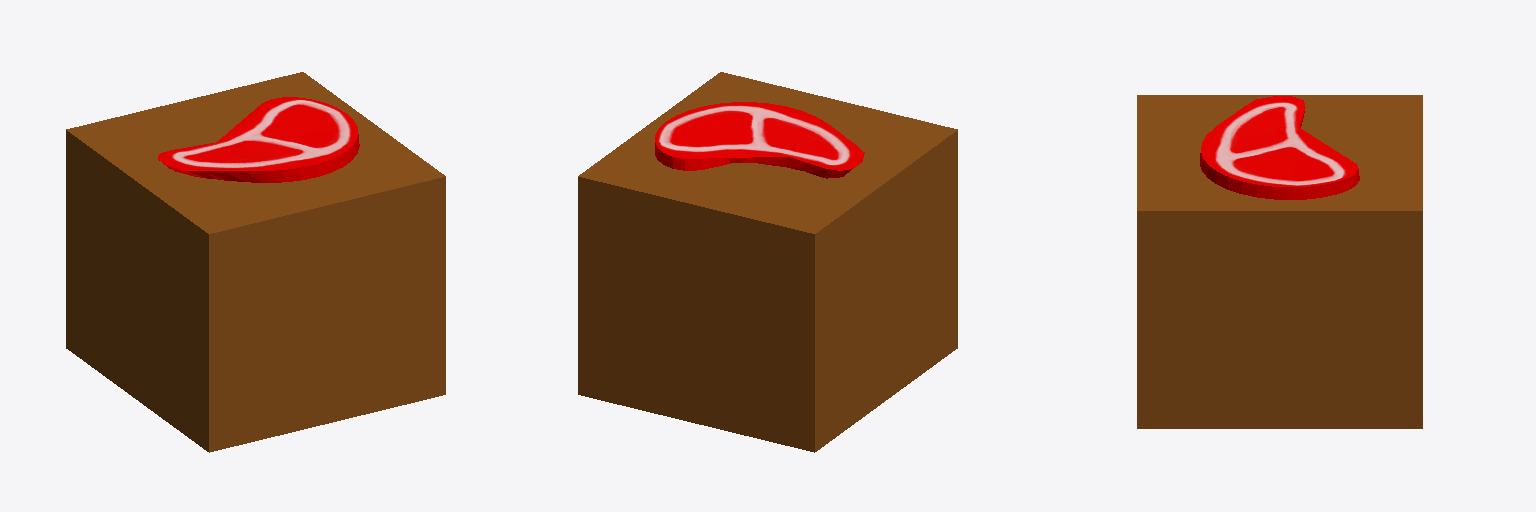
3 renders of one model, left to right at view 1: azimuth 30°, elevation 25°; view 2: azimuth 150°, elevation 25°; view 3: azimuth 270°, elevation 25°, orthographic.
Visible parts, largest first — view 1: Cube.007, Cylinder.004; view 2: Cube.007, Cylinder.004; view 3: Cube.007, Cylinder.004.
Boxes of the visible parts, box(x1,y1,x2,y2) form: Cube.007: box(66, 72, 445, 452); Cylinder.004: box(158, 97, 359, 182); Cube.007: box(578, 72, 957, 452); Cylinder.004: box(655, 102, 864, 178); Cube.007: box(1137, 95, 1422, 428); Cylinder.004: box(1200, 96, 1359, 199).
Bounding box in the file's own units: 2.74 × 2.54 × 2.86.
Materials: 2 (2 with a texture image).